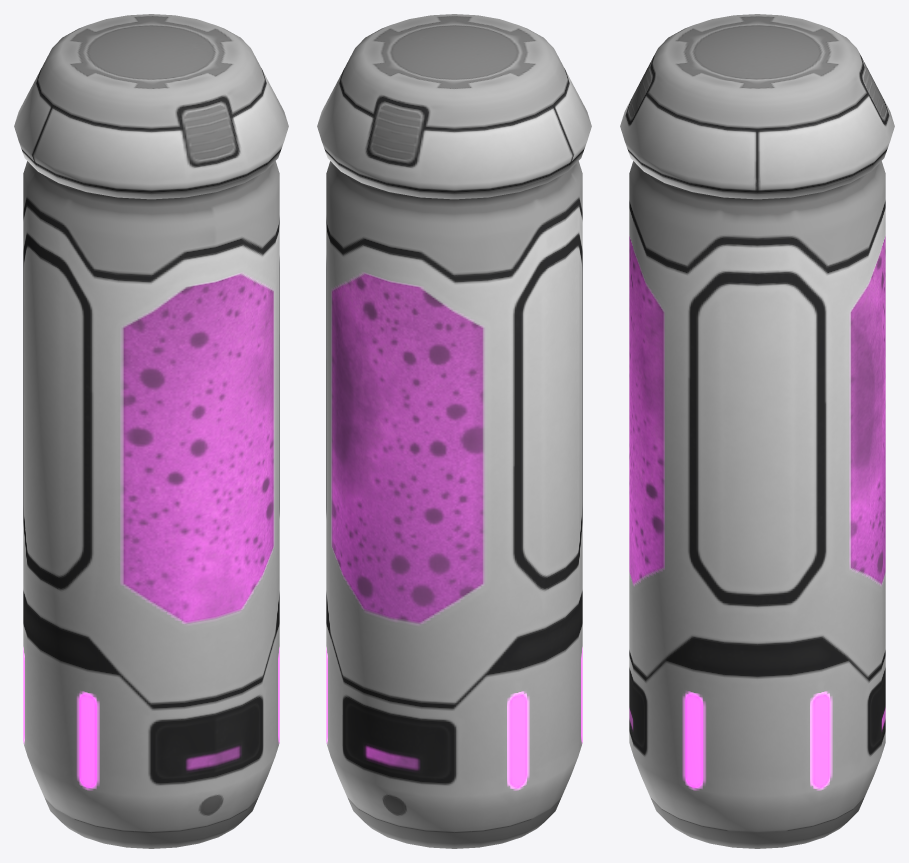
The model's file is LabBarrels01_3.FBX.
3 renders of one model, left to right at view 1: azimuth 30°, elevation 25°; view 2: azimuth 150°, elevation 25°; view 3: azimuth 270°, elevation 25°, orthographic.
Parts seen in each view (by area): view 1: LabBarrels01_3; view 2: LabBarrels01_3; view 3: LabBarrels01_3.
Part boxes in pixels (box(x1,y1,x2,y2)): LabBarrels01_3: box(14, 14, 288, 848); LabBarrels01_3: box(317, 14, 591, 848); LabBarrels01_3: box(620, 14, 894, 848).
Size of what is drawn, in the model's own units: 0.3742 by 1.15 by 0.3742.
